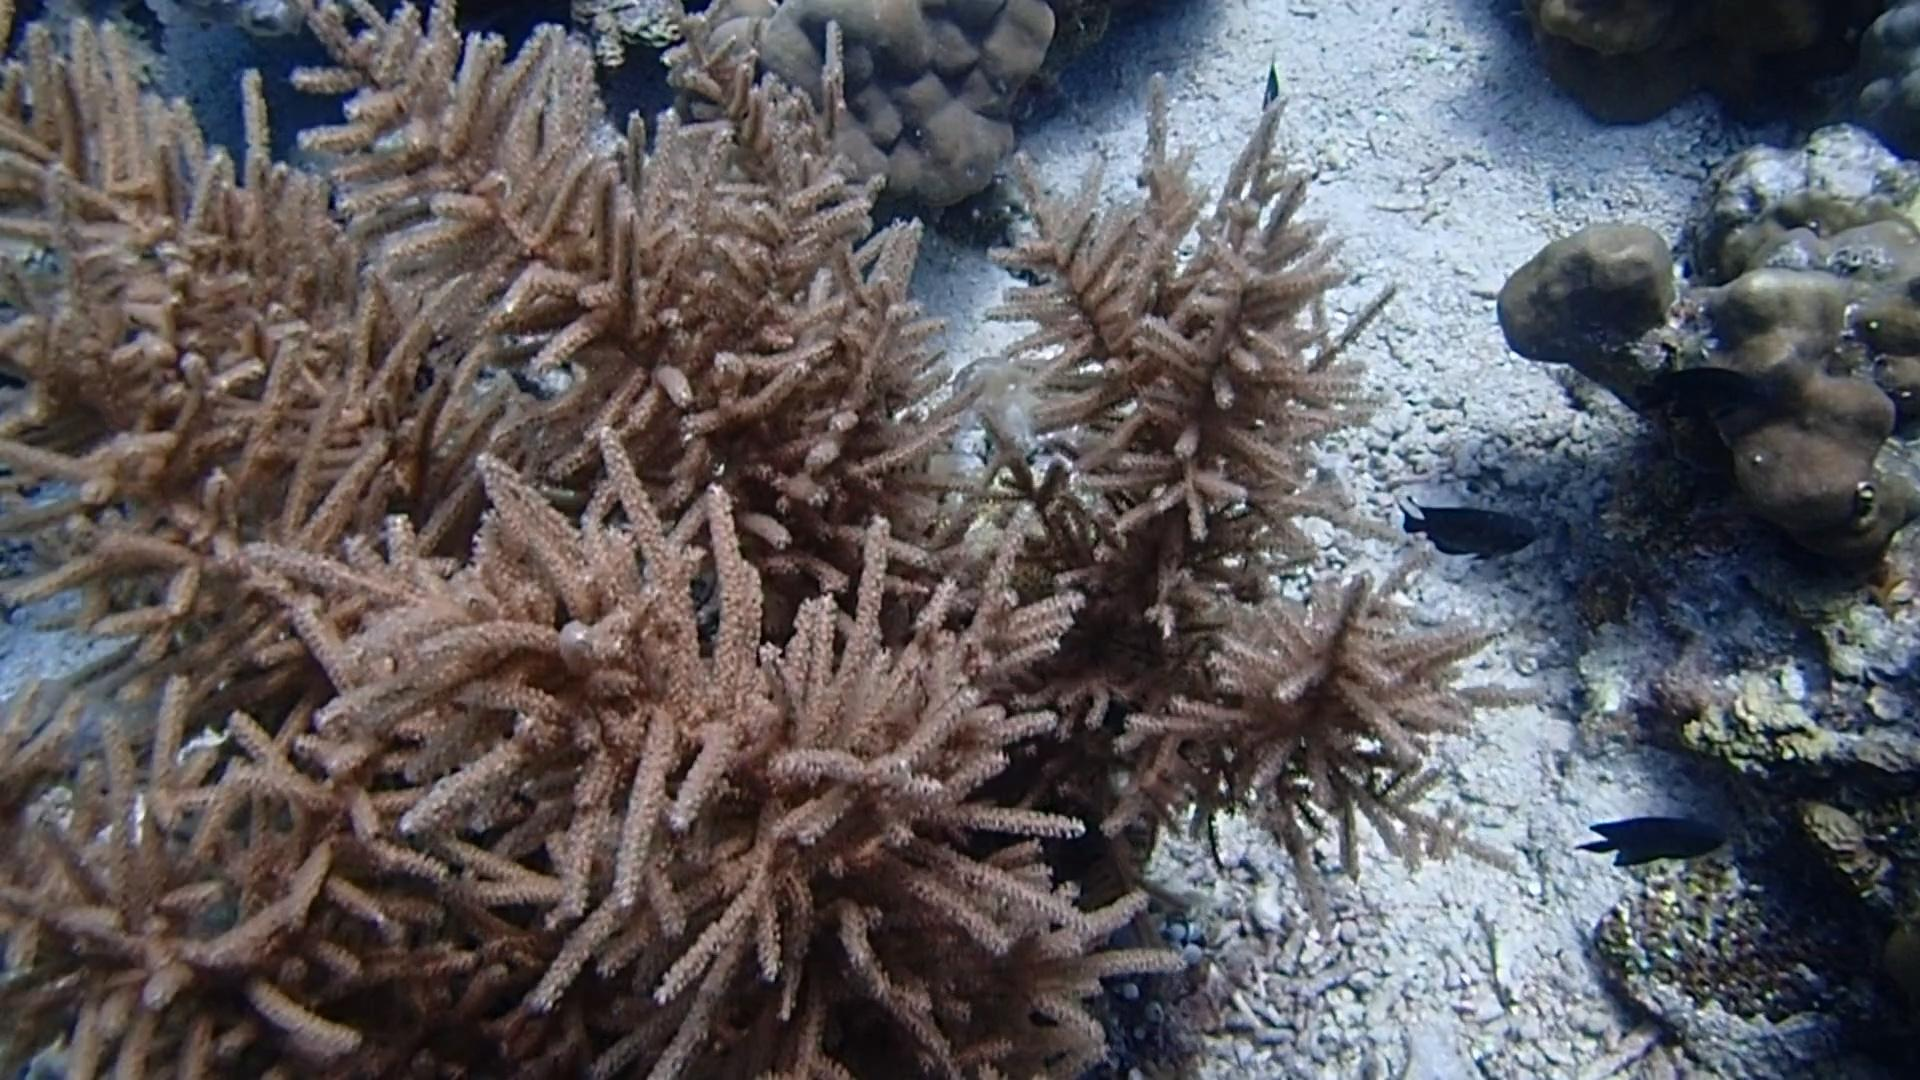Dark Fish: (1389, 488, 1544, 568), (1571, 810, 1734, 874), (1626, 359, 1758, 429)
Yellow Tail: (1251, 49, 1292, 119)
